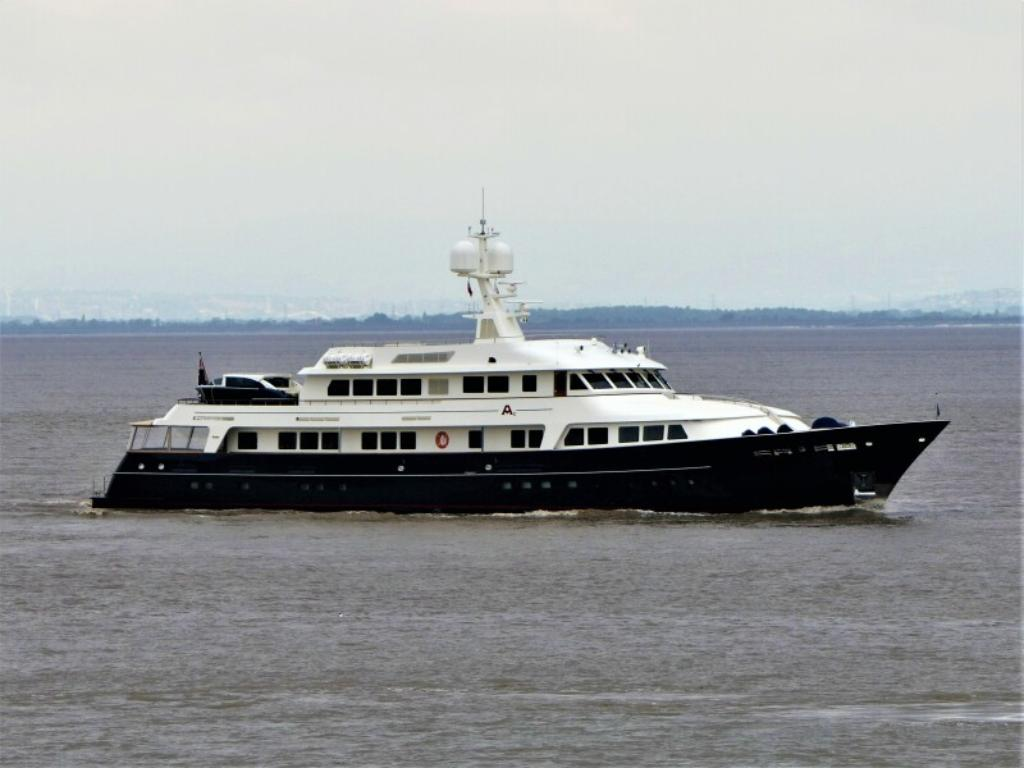PassengerShip: (86, 216, 956, 514)
